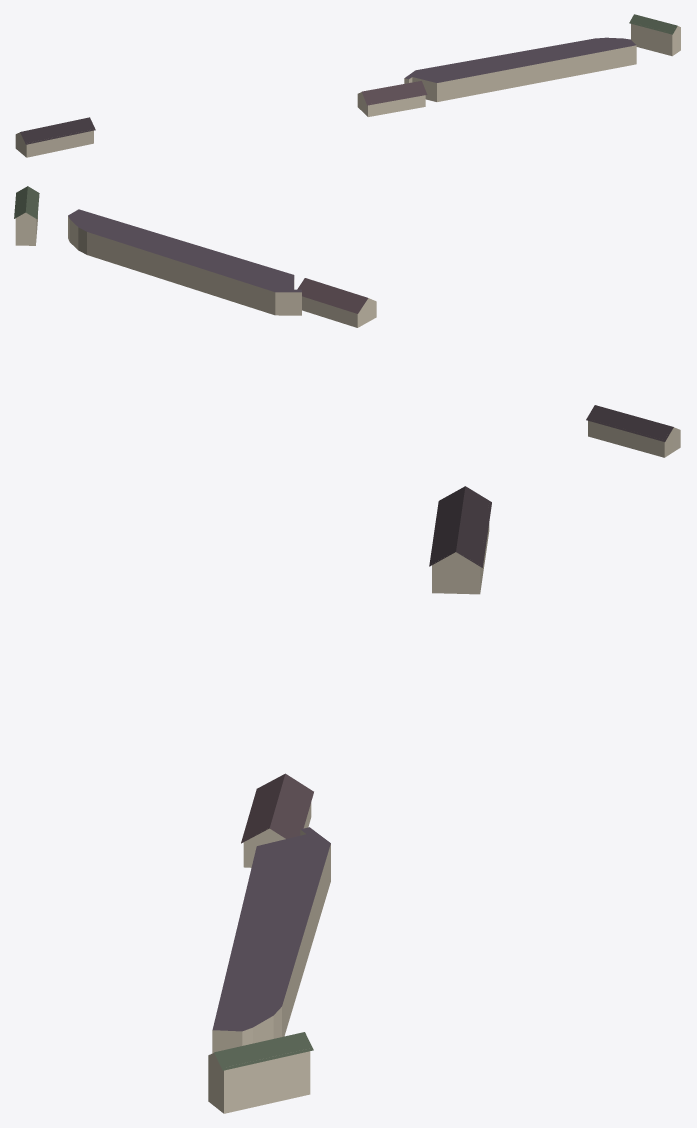
The picture shows the model from 3 angles, top to bottom: view 1: azimuth 30°, elevation 25°; view 2: azimuth 150°, elevation 25°; view 3: azimuth 270°, elevation 25°; orthographic projection. The views are drawn at different scales.
Visible parts, largest first — view 1: tuile; view 2: tuile; view 3: tuile.
Boxes of the visible parts, box(x1,y1,x2,y2) form: tuile: box(15, 14, 680, 157); tuile: box(14, 186, 680, 457); tuile: box(208, 486, 491, 1113).
Bounding box in the file's own units: 182 × 8.27 × 37.56.
